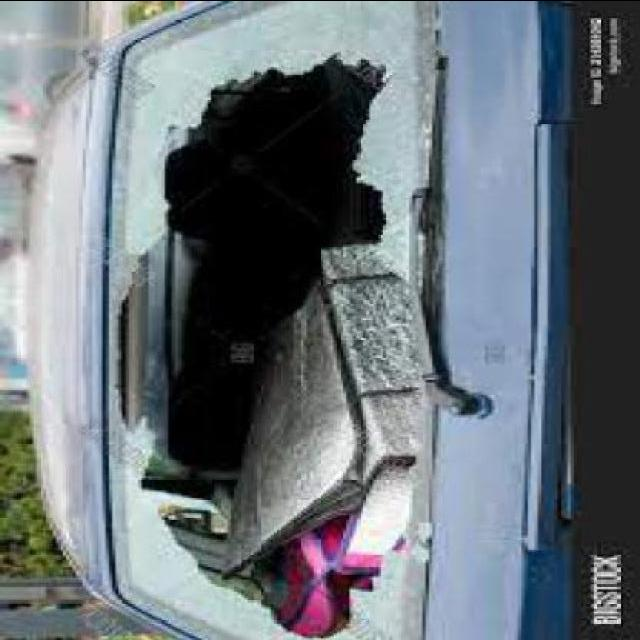Rear-windscreen-Damage: (83, 1, 486, 637)
